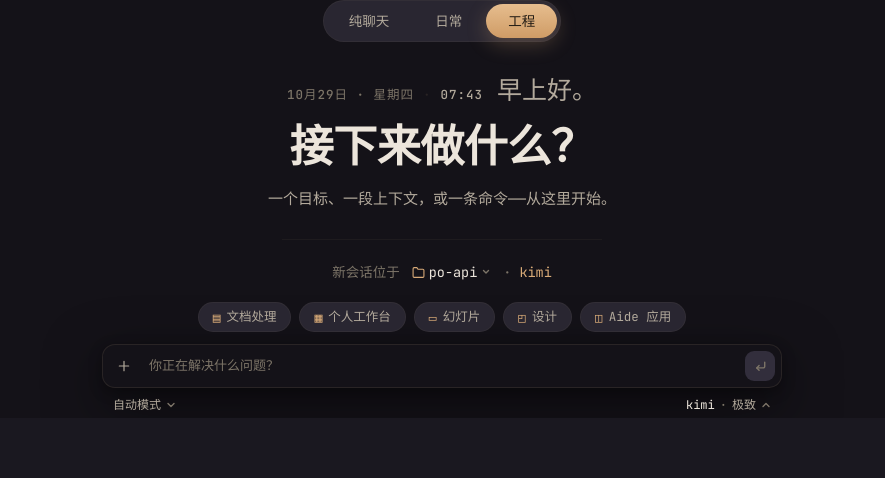
it: ChatPanel — 新会话发送前问语言服务器 › 工程模式新会话：消息照发（不阻塞），输入框上方出提示；「开启」= 写开关(true)，不再重复发送
In the text box with placeholder "你正在解决什么问题？": (442, 366) [145, 351, 739, 381], type "hello"
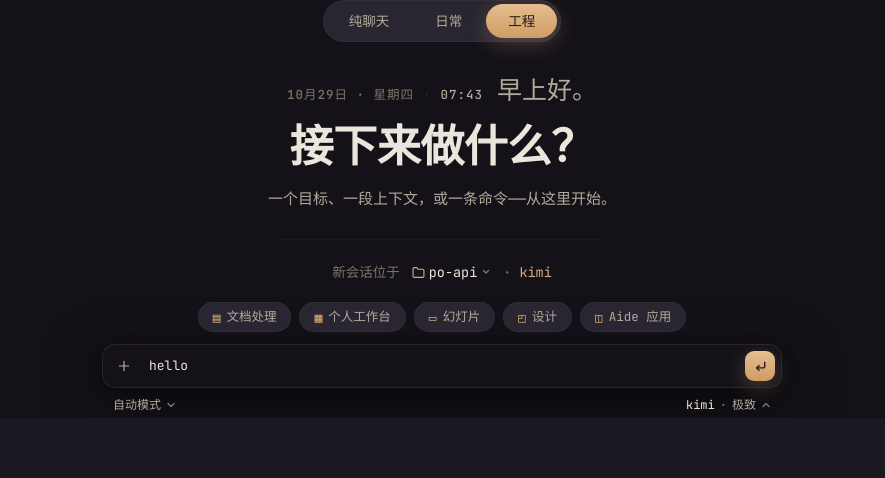
Press Enter in the text box, box [145, 351, 739, 381]
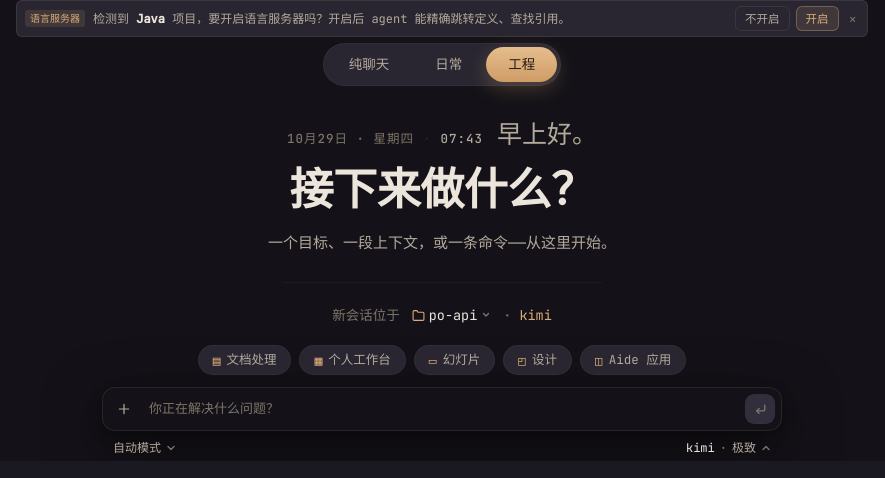
expect the element showing "语言服务器 检测到 Java 项目，要开启语言服务器吗？开启后 agent 能精确跳转定义、查找引用。 不开启 开启 ×" is shown: met, box [16, 0, 868, 37]
